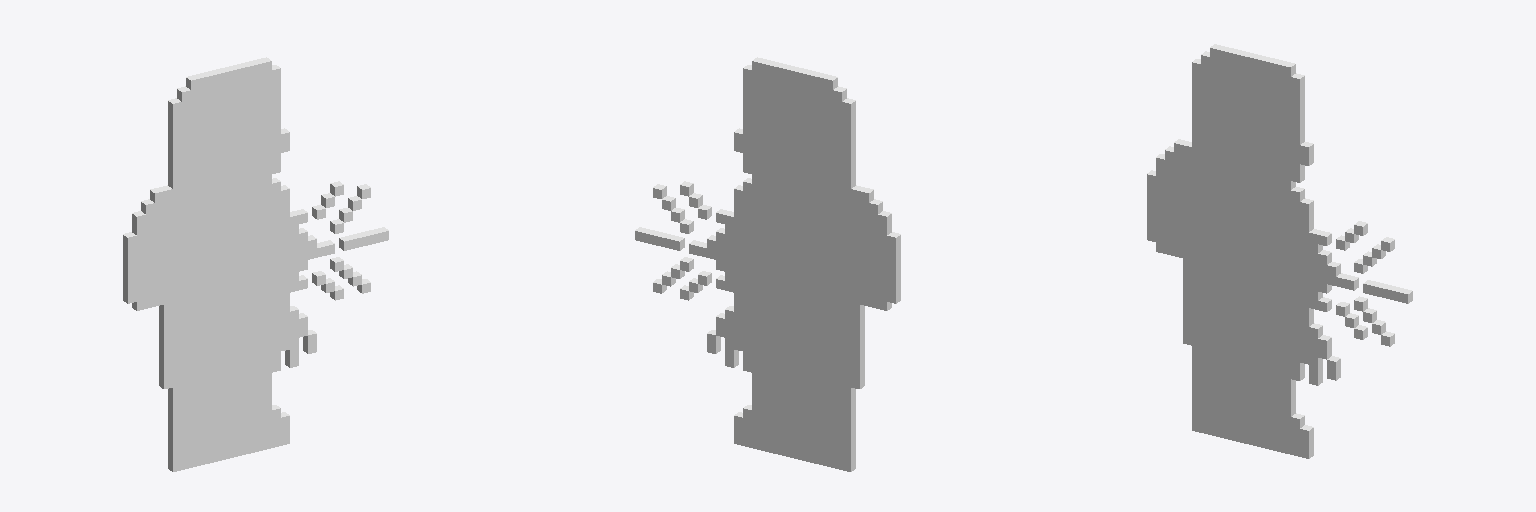
File: ShootingPowerUpMulti.obj
The picture shows the model from 3 angles: view 1: azimuth 30°, elevation 25°; view 2: azimuth 150°, elevation 25°; view 3: azimuth 330°, elevation 25°; orthographic projection.
Visible parts, largest first — view 1: object 1; view 2: object 1; view 3: object 1.
Part boxes in pixels (x1,y1,x2,y2): object 1: (123, 57, 388, 471); object 1: (635, 57, 900, 471); object 1: (1147, 44, 1412, 458).
Bounding box in the file's own units: 2.9 × 4.1 × 0.1.